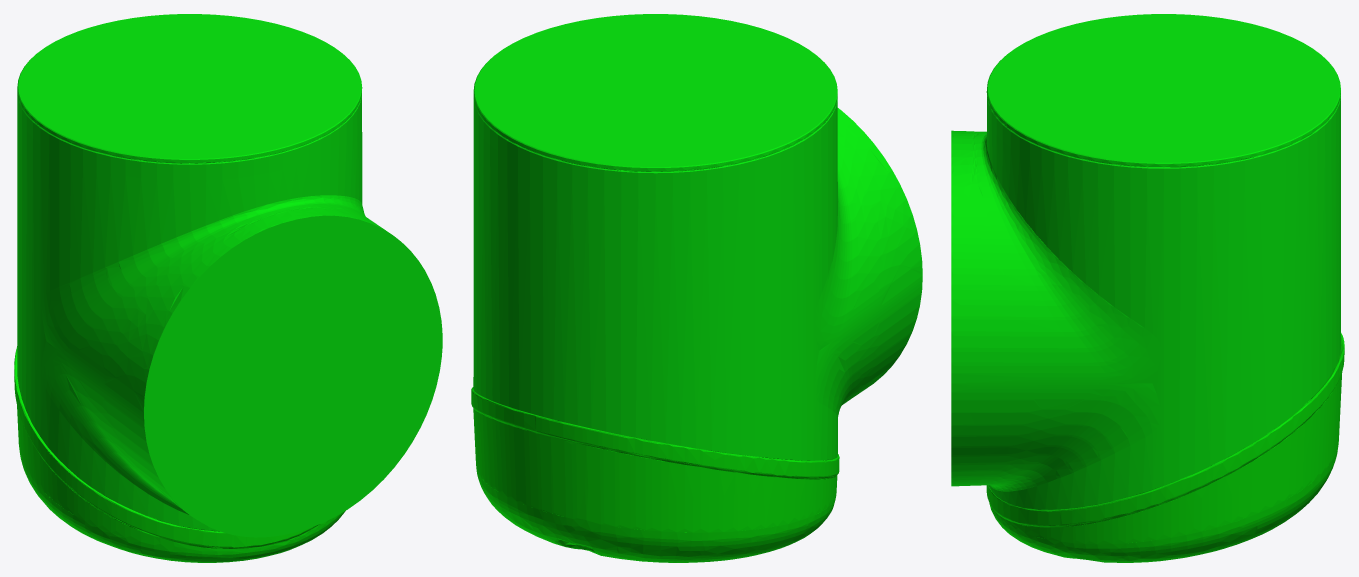
Rendered from wrist1G.dae.
The picture shows the model from 3 angles, left to right: view 1: azimuth 30°, elevation 25°; view 2: azimuth 150°, elevation 25°; view 3: azimuth 270°, elevation 25°; orthographic projection. The views are drawn at different scales.
Visible parts, largest first — view 1: node-shape0-name, node-shape1-name; view 2: node-shape0-name, node-shape1-name; view 3: node-shape0-name, node-shape1-name.
Part boxes in pixels (box(x1,y1,x2,y2)): node-shape0-name: box(17, 14, 442, 537); node-shape1-name: box(14, 346, 345, 562); node-shape0-name: box(473, 14, 922, 460); node-shape1-name: box(471, 387, 839, 562); node-shape0-name: box(951, 14, 1340, 509); node-shape1-name: box(986, 333, 1344, 562).
Bounding box in the file's own units: 0.091 × 0.0999 × 0.1188.
